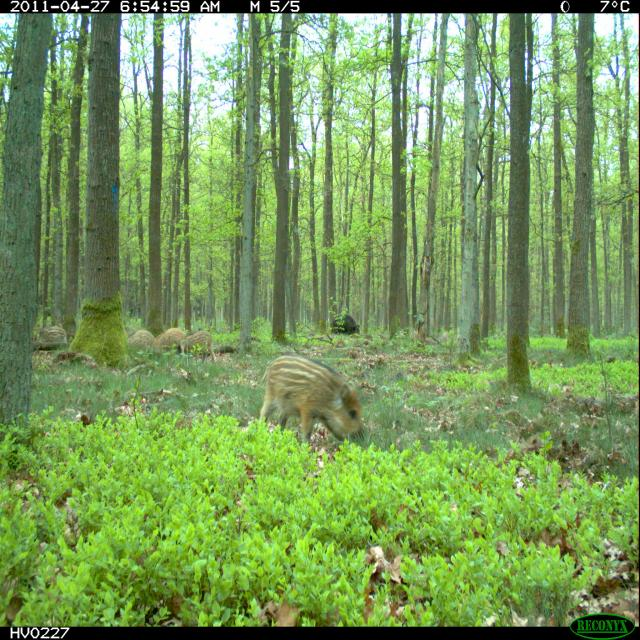boar: (243, 329, 382, 462), (172, 316, 222, 377), (144, 313, 197, 362), (328, 300, 368, 358), (121, 312, 156, 361)
